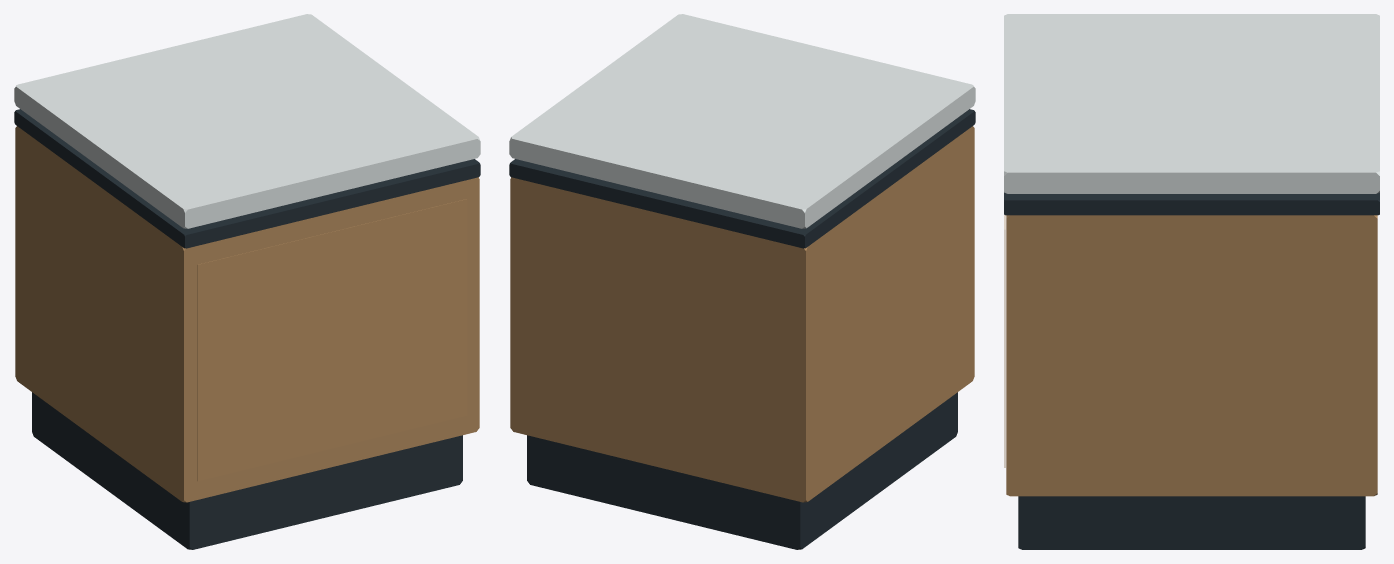
Rendered from FrontCounter_Corner.glb.
The picture shows the model from 3 angles, left to right: view 1: azimuth 30°, elevation 25°; view 2: azimuth 150°, elevation 25°; view 3: azimuth 270°, elevation 25°; orthographic projection. The views are drawn at different scales.
Visible parts, largest first — view 1: FrontCounter_Corner; view 2: FrontCounter_Corner; view 3: FrontCounter_Corner.
Boxes of the visible parts, x1=… form: FrontCounter_Corner: x1=14, y1=14, x2=480, y2=549; FrontCounter_Corner: x1=509, y1=14, x2=975, y2=549; FrontCounter_Corner: x1=1004, y1=14, x2=1379, y2=549.
Bounding box in the file's own units: 0.8 × 0.9 × 0.8.
